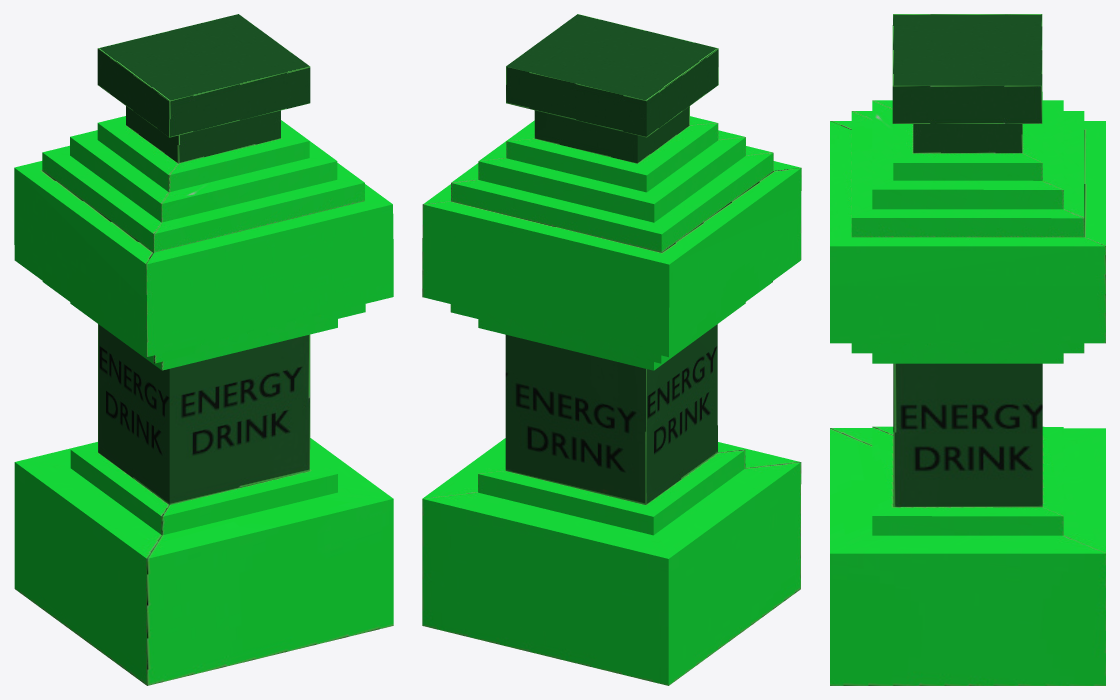
The model's file is gar_01.FBX.
3 renders of one model, left to right at view 1: azimuth 30°, elevation 25°; view 2: azimuth 150°, elevation 25°; view 3: azimuth 270°, elevation 25°, orthographic. The views are drawn at different scales.
Parts seen in each view (by area): view 1: gar_01; view 2: gar_01; view 3: gar_01.
Boxes of the visible parts, x1=… form: gar_01: x1=14, y1=14, x2=393, y2=685; gar_01: x1=422, y1=14, x2=801, y2=685; gar_01: x1=830, y1=14, x2=1105, y2=685.
Bounding box in the file's own units: 141 × 299 × 130.
1 material, 1 textured.
